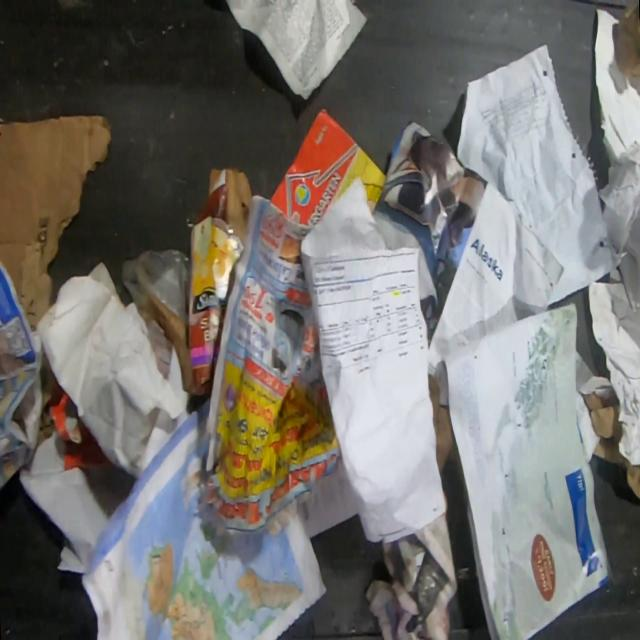cardboard: (0, 114, 111, 331), (579, 391, 640, 502), (428, 371, 460, 474), (611, 0, 640, 81), (226, 167, 253, 248), (208, 168, 223, 196)
soft_plastic: (120, 248, 189, 325)
